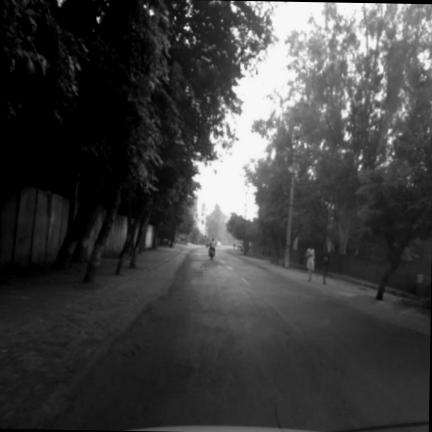Road: (54, 248, 429, 431)
